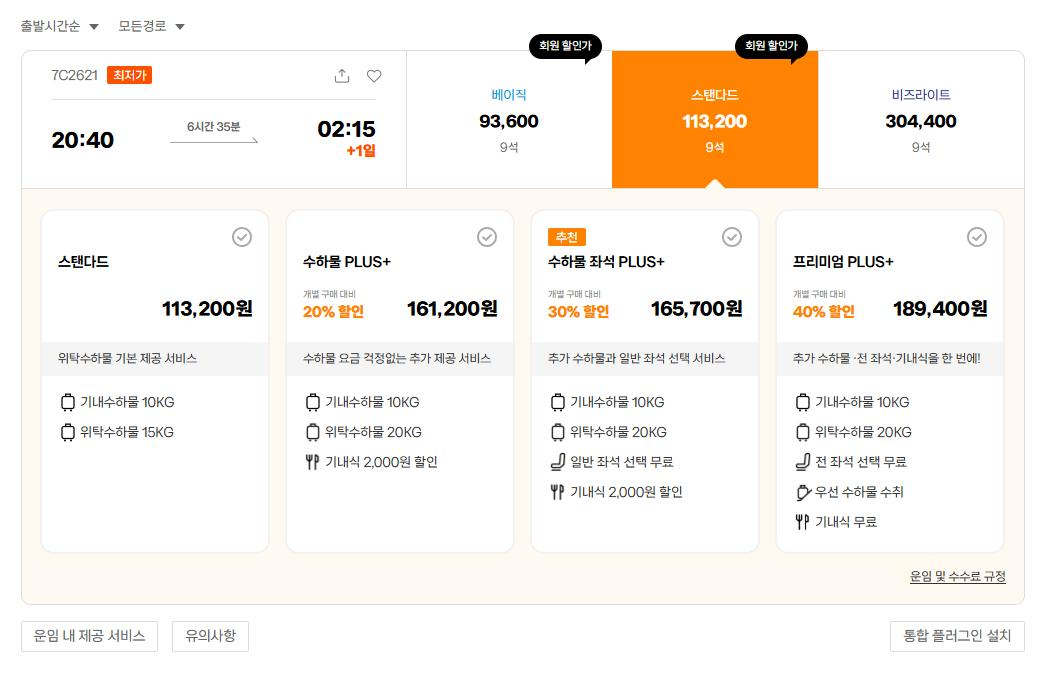button: (39, 205, 265, 556), (775, 207, 1003, 550), (532, 207, 759, 550), (287, 207, 511, 550), (403, 30, 612, 189), (615, 29, 818, 191), (820, 50, 1024, 191), (20, 616, 157, 655), (888, 620, 1025, 651), (900, 563, 1021, 594), (173, 617, 249, 659), (362, 60, 390, 91), (330, 59, 357, 90)
checkbox: (14, 10, 106, 44), (113, 10, 196, 41)
